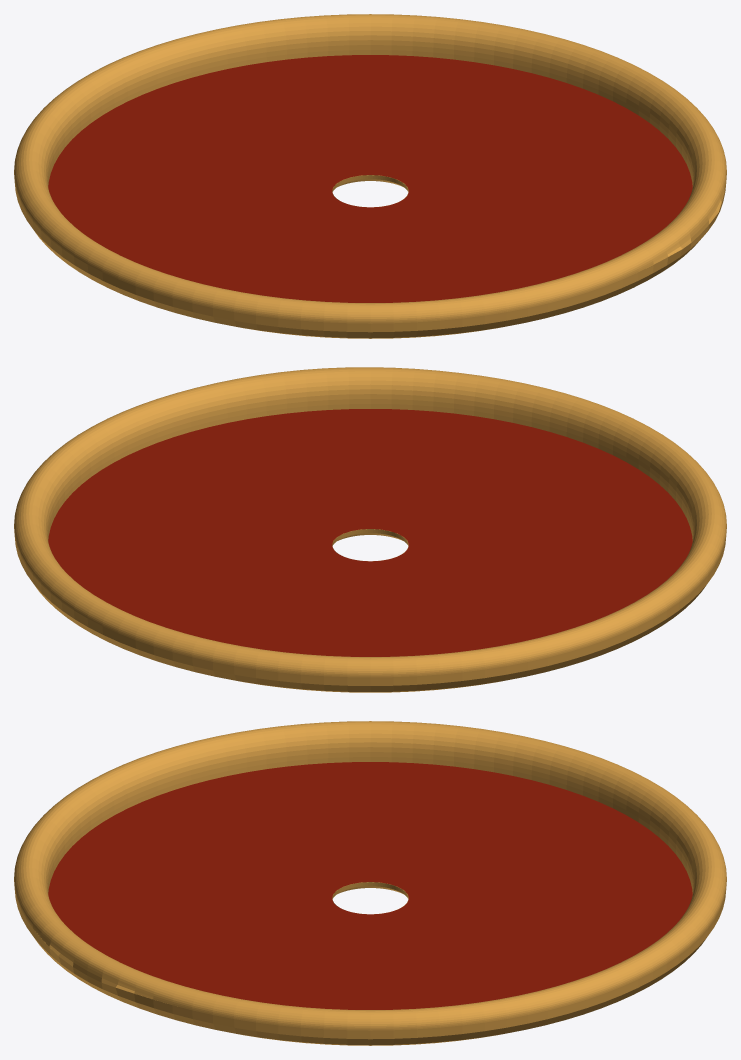
Rendered from pizzaRache.glb.
The picture shows the model from 3 angles, top to bottom: view 1: azimuth 30°, elevation 25°; view 2: azimuth 150°, elevation 25°; view 3: azimuth 270°, elevation 25°; orthographic projection.
Visible parts, largest first — view 1: centerPizza, basePizza; view 2: centerPizza, basePizza; view 3: centerPizza, basePizza.
Boxes of the visible parts, box(x1,y1,x2,y2) form: centerPizza: box(48, 55, 692, 302); basePizza: box(14, 14, 726, 338); centerPizza: box(48, 409, 692, 656); basePizza: box(14, 367, 726, 692); centerPizza: box(48, 762, 692, 1009); basePizza: box(14, 721, 726, 1045).
Size of the model in its own units: 0.9886 by 0.074 by 0.9886.
Materials: 2 (1 with a texture image).
